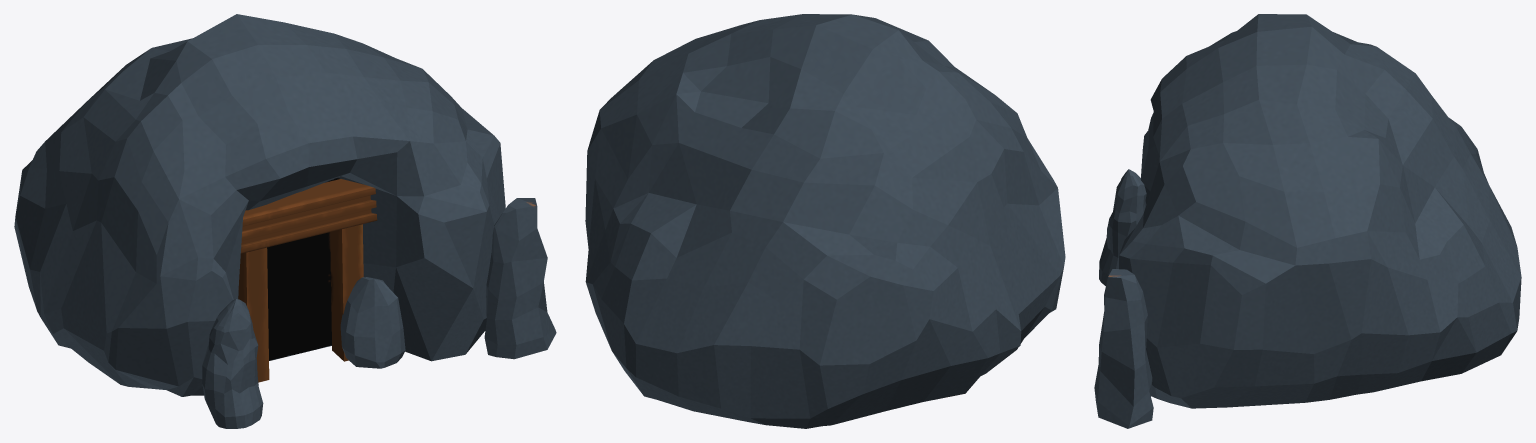
The model's file is Pedra.fbx.
The picture shows the model from 3 angles, left to right: view 1: azimuth 30°, elevation 25°; view 2: azimuth 150°, elevation 25°; view 3: azimuth 270°, elevation 25°; orthographic projection. The views are drawn at different scales.
Parts seen in each view (by area): view 1: Cube; view 2: Cube; view 3: Cube.
Part boxes in pixels (x1,y1,x2,y2): Cube: (14,14,556,428); Cube: (585,14,1065,428); Cube: (1094,14,1521,428).
Size of the model in its own units: 2575 by 1809 by 2334.
1 material, 1 textured.
